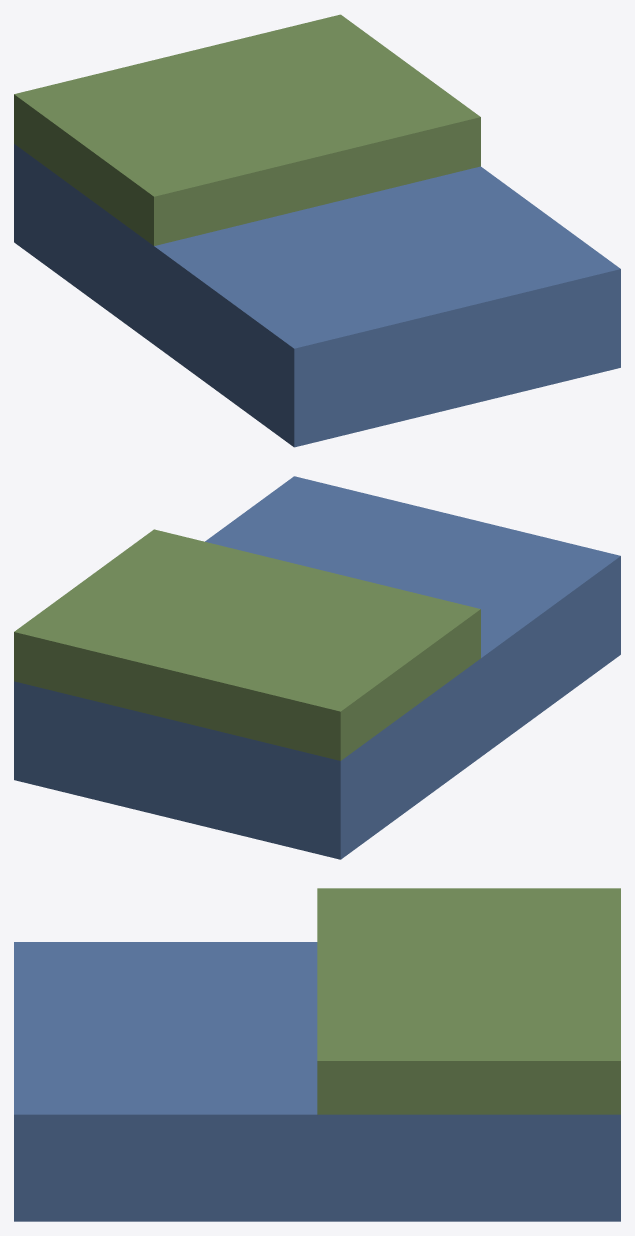
File: quad_33.glb
3 views of the same model, one above another, from view 1: azimuth 30°, elevation 25°; view 2: azimuth 150°, elevation 25°; view 3: azimuth 270°, elevation 25° (orthographic). The views are drawn at different scales.
Visible parts, largest first — view 1: quad_33; view 2: quad_33; view 3: quad_33.
Part boxes in pixels (x1,y1,x2,y2): quad_33: [14, 14, 620, 447]; quad_33: [14, 476, 620, 859]; quad_33: [14, 888, 620, 1221].
Size of the model in its own units: 0.577 by 0.25 by 0.8571.
